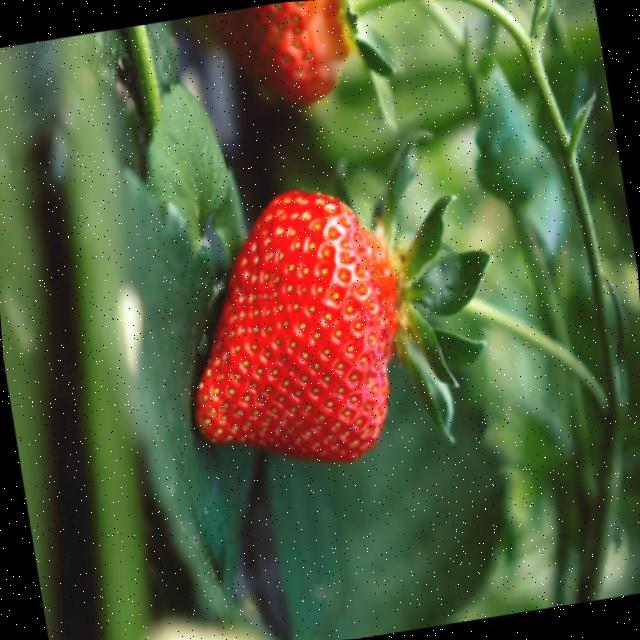strawberry: (194, 191, 397, 462), (213, 0, 351, 104)
